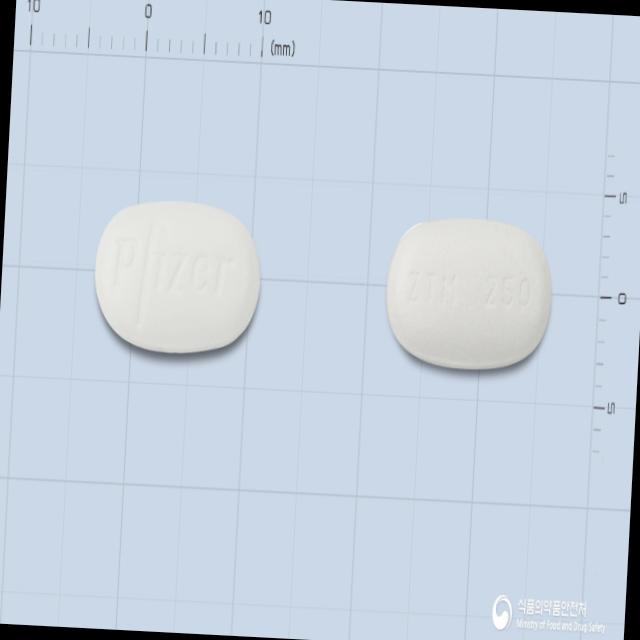Zithromax Tab: (92, 195, 265, 357), (384, 217, 555, 370)
